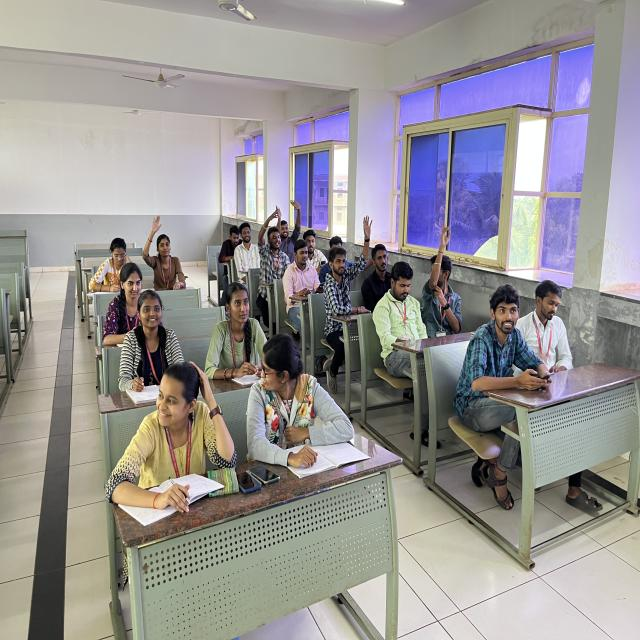Hand Rising: (325, 211, 375, 321), (422, 216, 468, 332), (138, 209, 191, 284), (253, 205, 290, 286), (279, 197, 306, 264)
Using Phone: (463, 281, 554, 401)
Writing: (112, 287, 192, 395)
